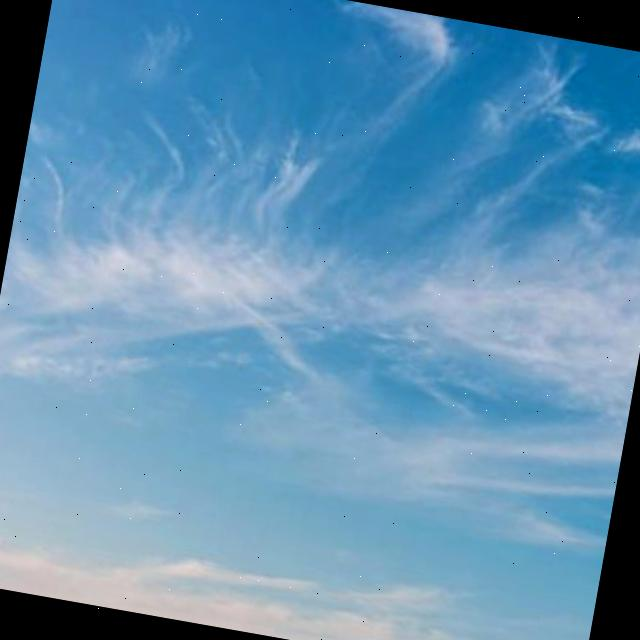Ci: (1, 1, 640, 562)
